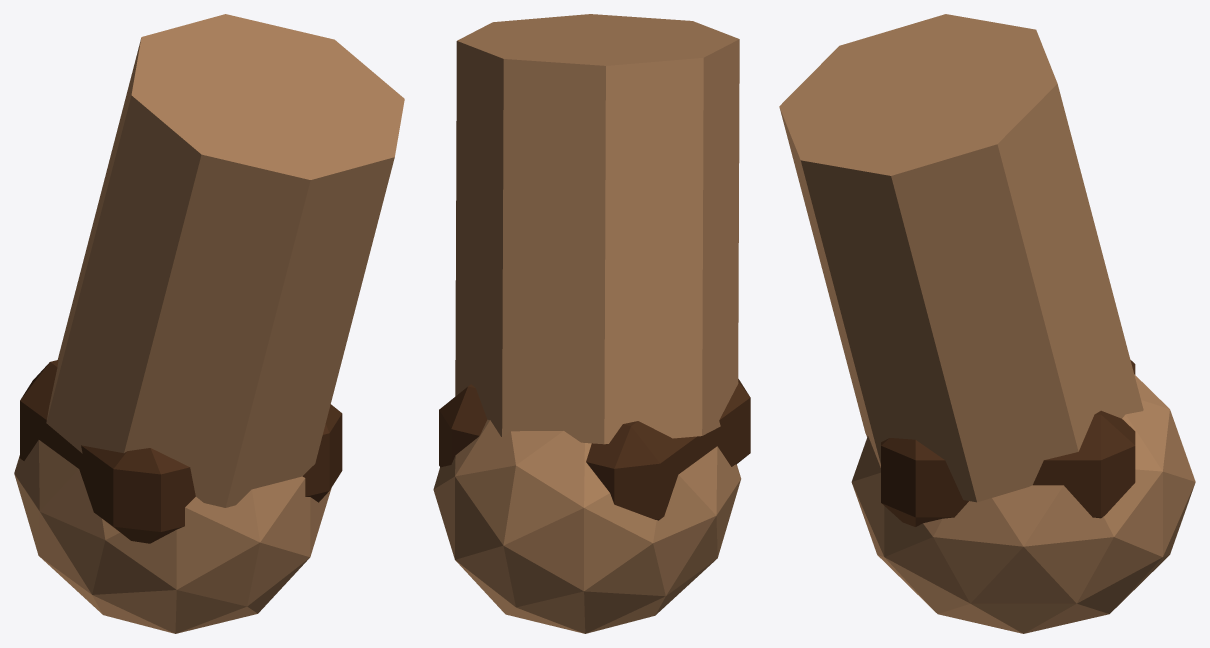
File: ForearmLeft.glb
3 views of the same model, side by side, from view 1: azimuth 30°, elevation 25°; view 2: azimuth 150°, elevation 25°; view 3: azimuth 270°, elevation 25° (orthographic). The views are drawn at different scales.
Parts seen in each view (by area): view 1: Sculpture; view 2: Sculpture; view 3: Sculpture.
Part boxes in pixels (x1,y1,x2,y2): Sculpture: [14, 14, 404, 633]; Sculpture: [433, 14, 750, 633]; Sculpture: [779, 14, 1195, 633].
Size of the model in its own units: 0.1786 by 0.3339 by 0.2178.
